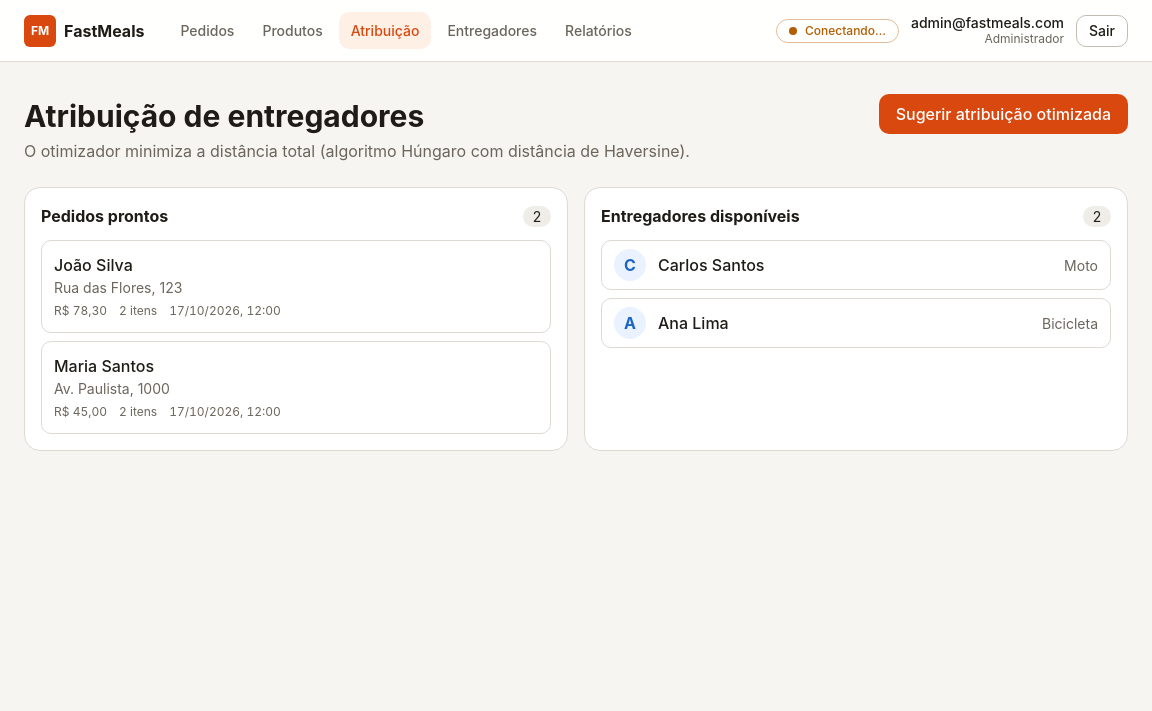
Test: Tela de atribuição › com solução: sugere os pares com distância, total e tempo do algoritmo
Click the button "Sugerir atribuição otimizada" at (1003, 114), box [879,94,1128,134]
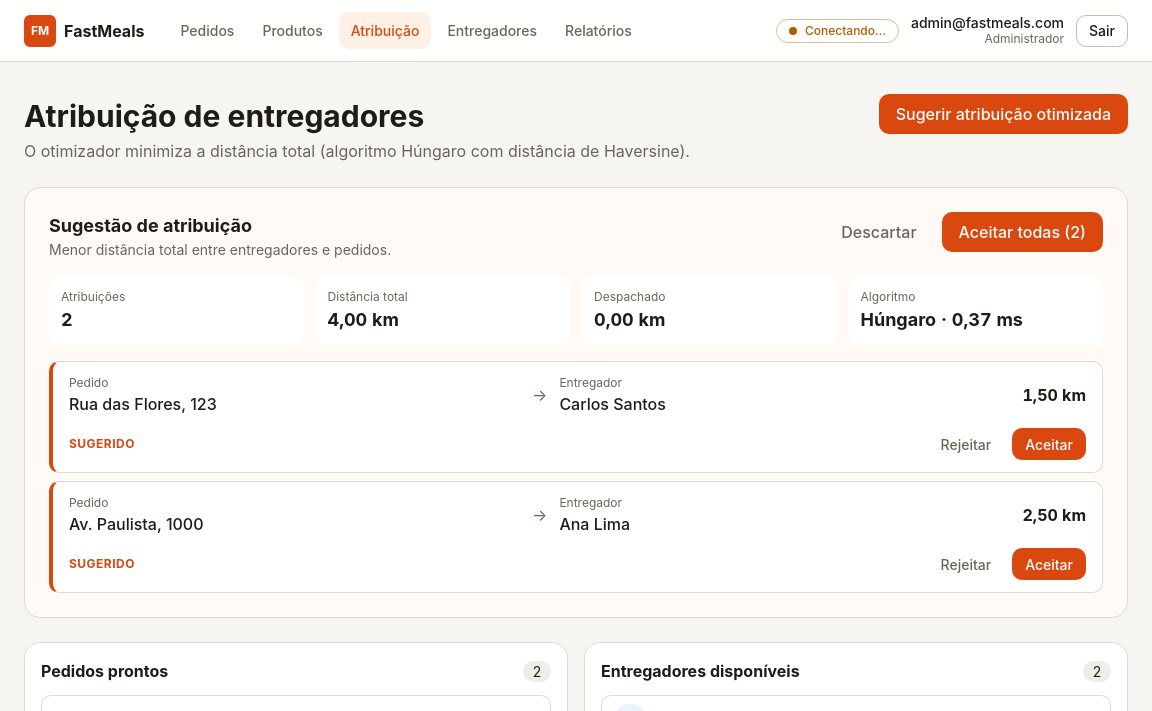
Expected: the text "Húngaro · 0,37 ms" is shown, [860,309,1023,330]
Expected: the text "4,00 km" is shown, [328,309,399,330]
